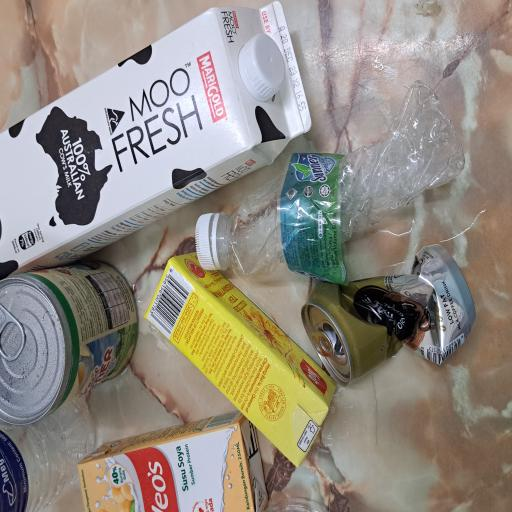can: (66, 0, 190, 186), (93, 400, 200, 512)
drink carton: (174, 0, 384, 417), (32, 192, 195, 450), (0, 103, 77, 361)
plastic bottle: (172, 296, 323, 512), (0, 0, 91, 130)
plastic bottle cap: (310, 321, 360, 381), (181, 259, 225, 294)
pop tab: (112, 0, 158, 34), (115, 414, 136, 446)
